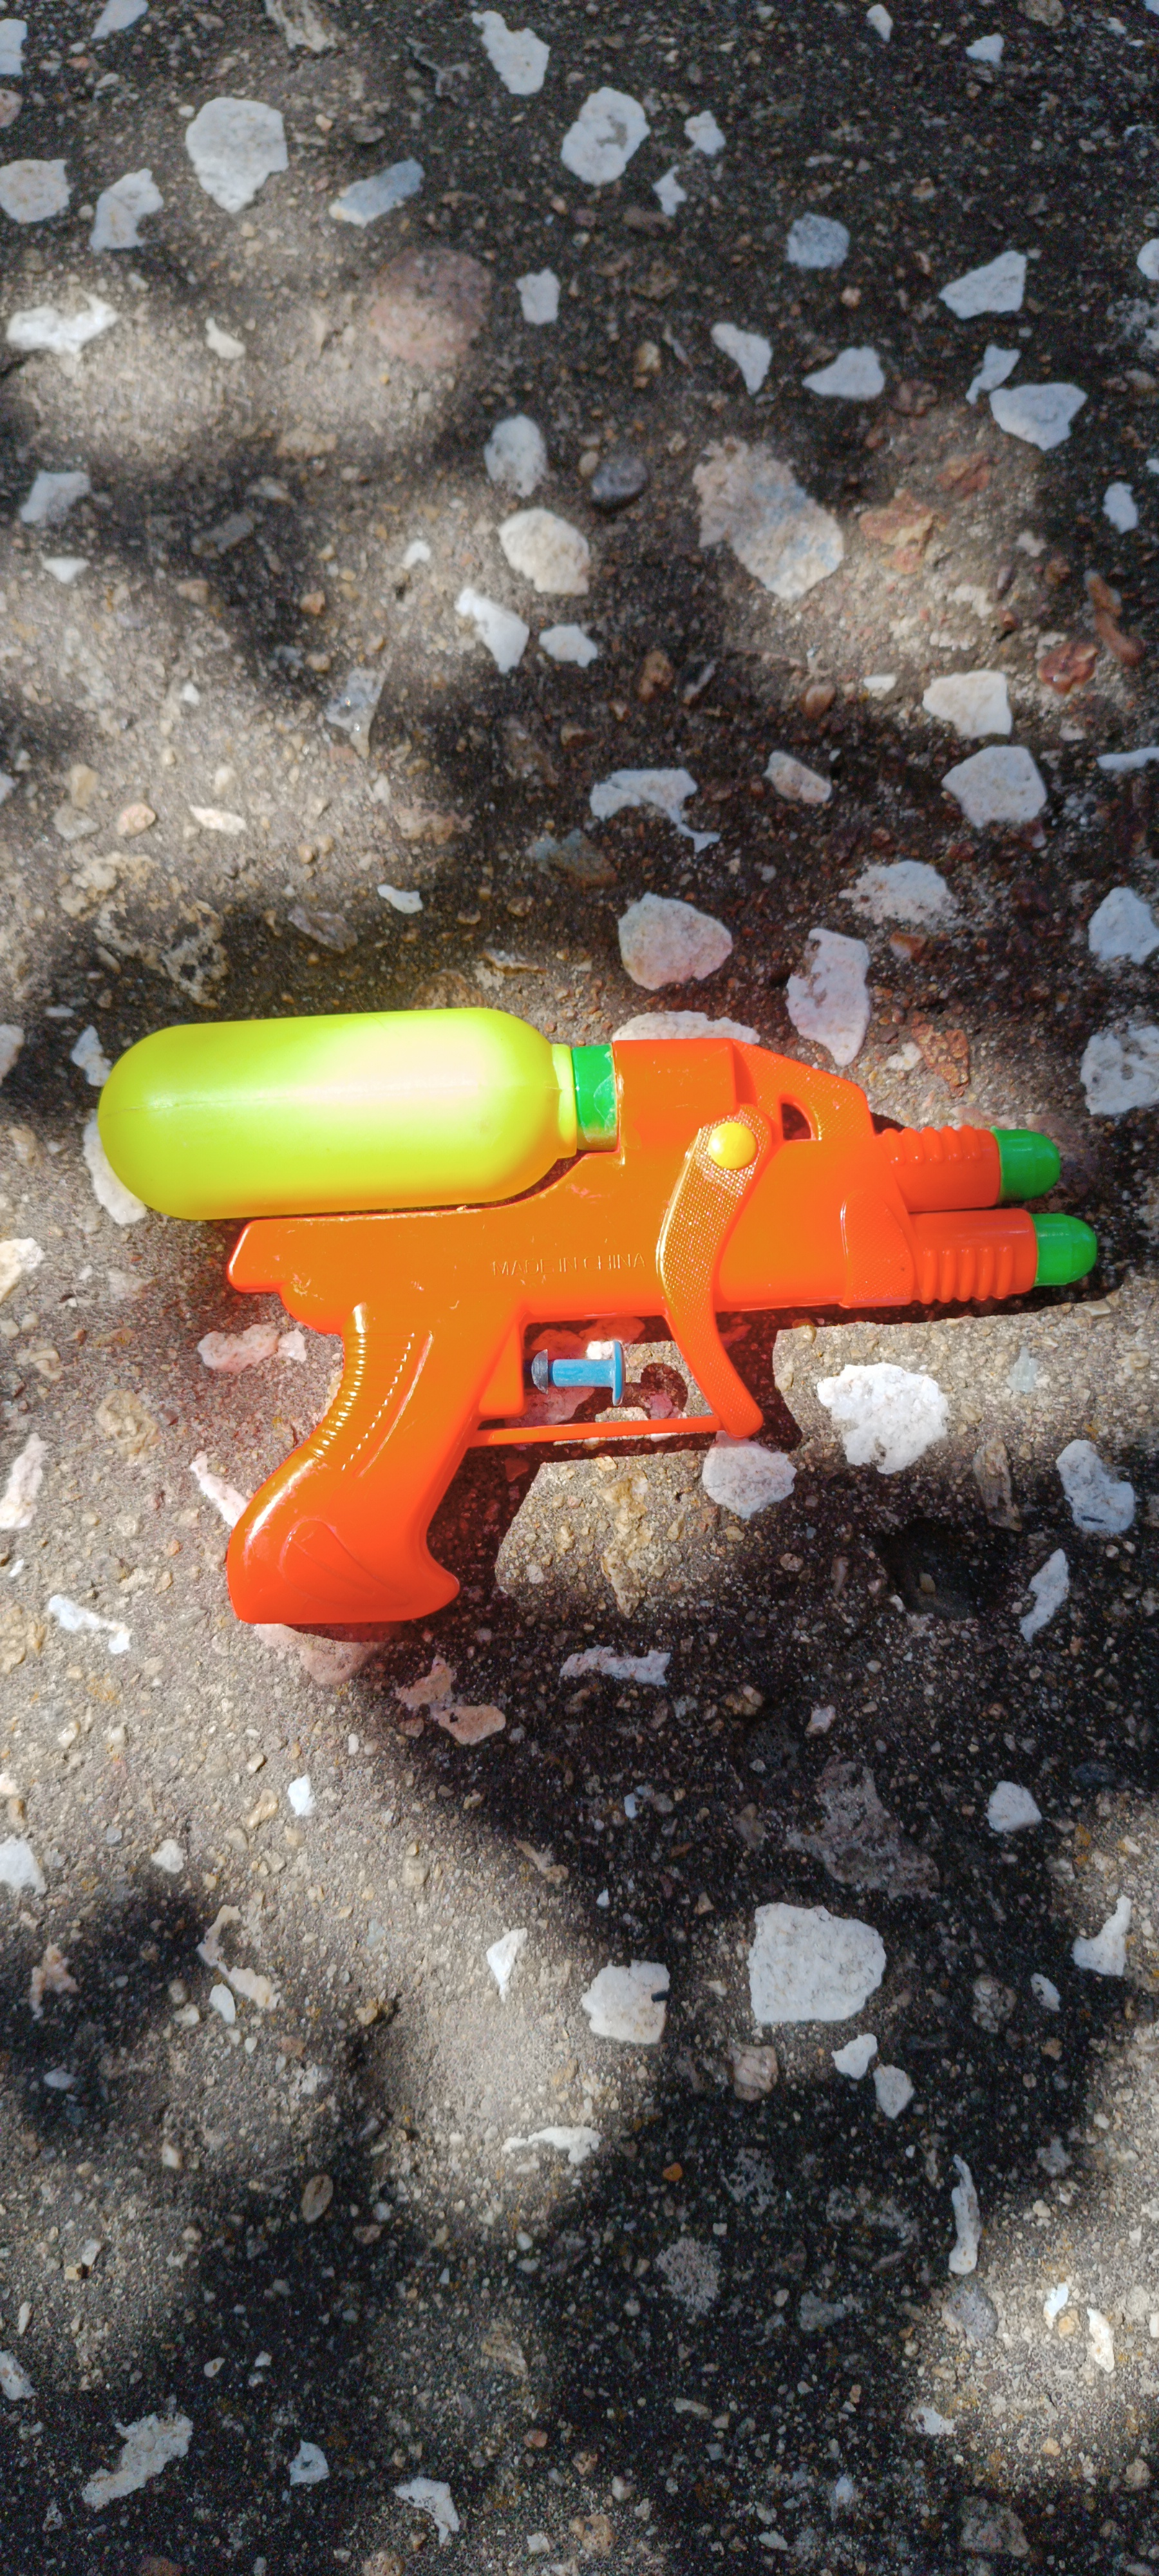Water Gun: (95, 1005, 1100, 1628)
